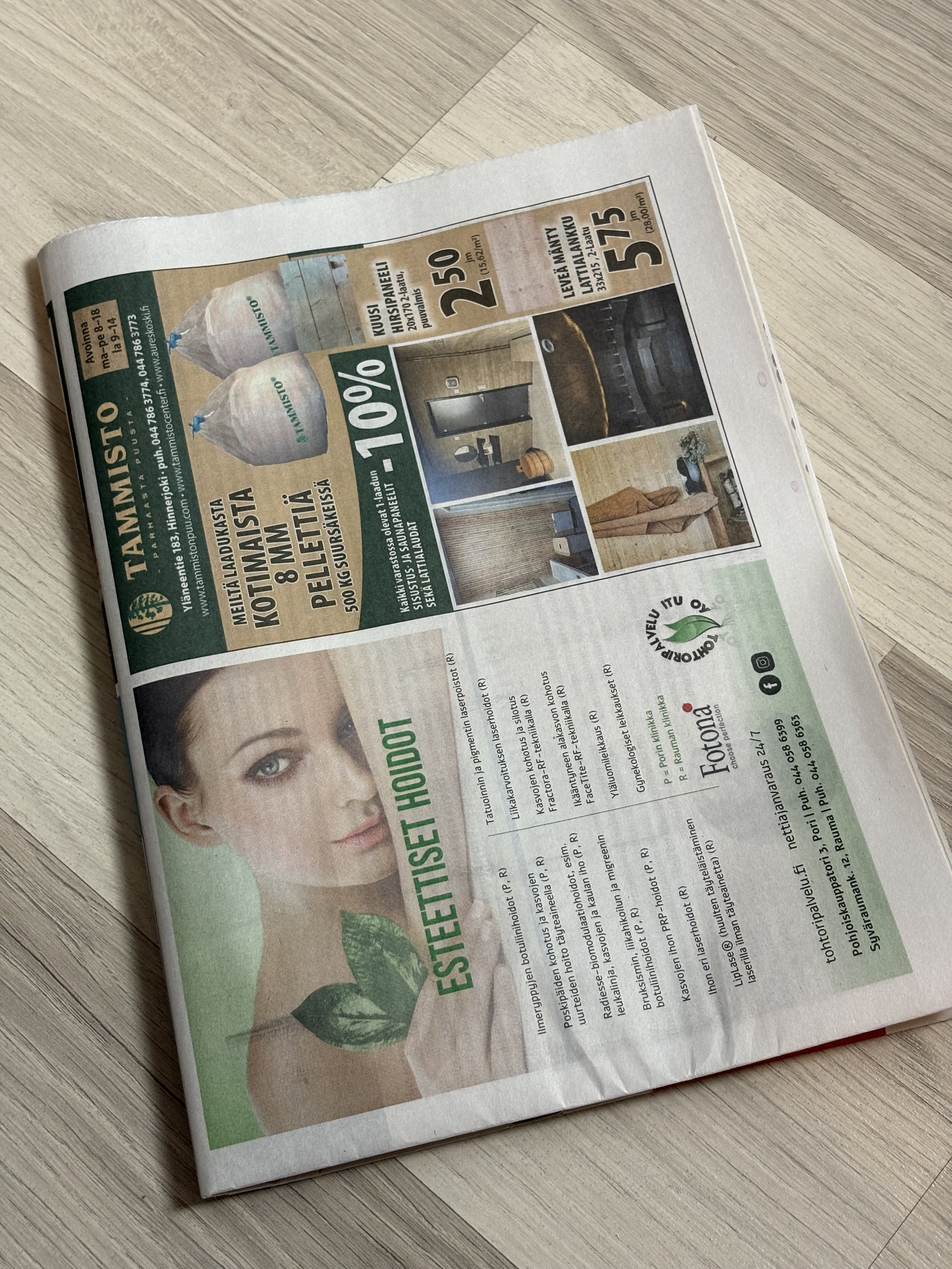paper: (24, 108, 952, 1196)
